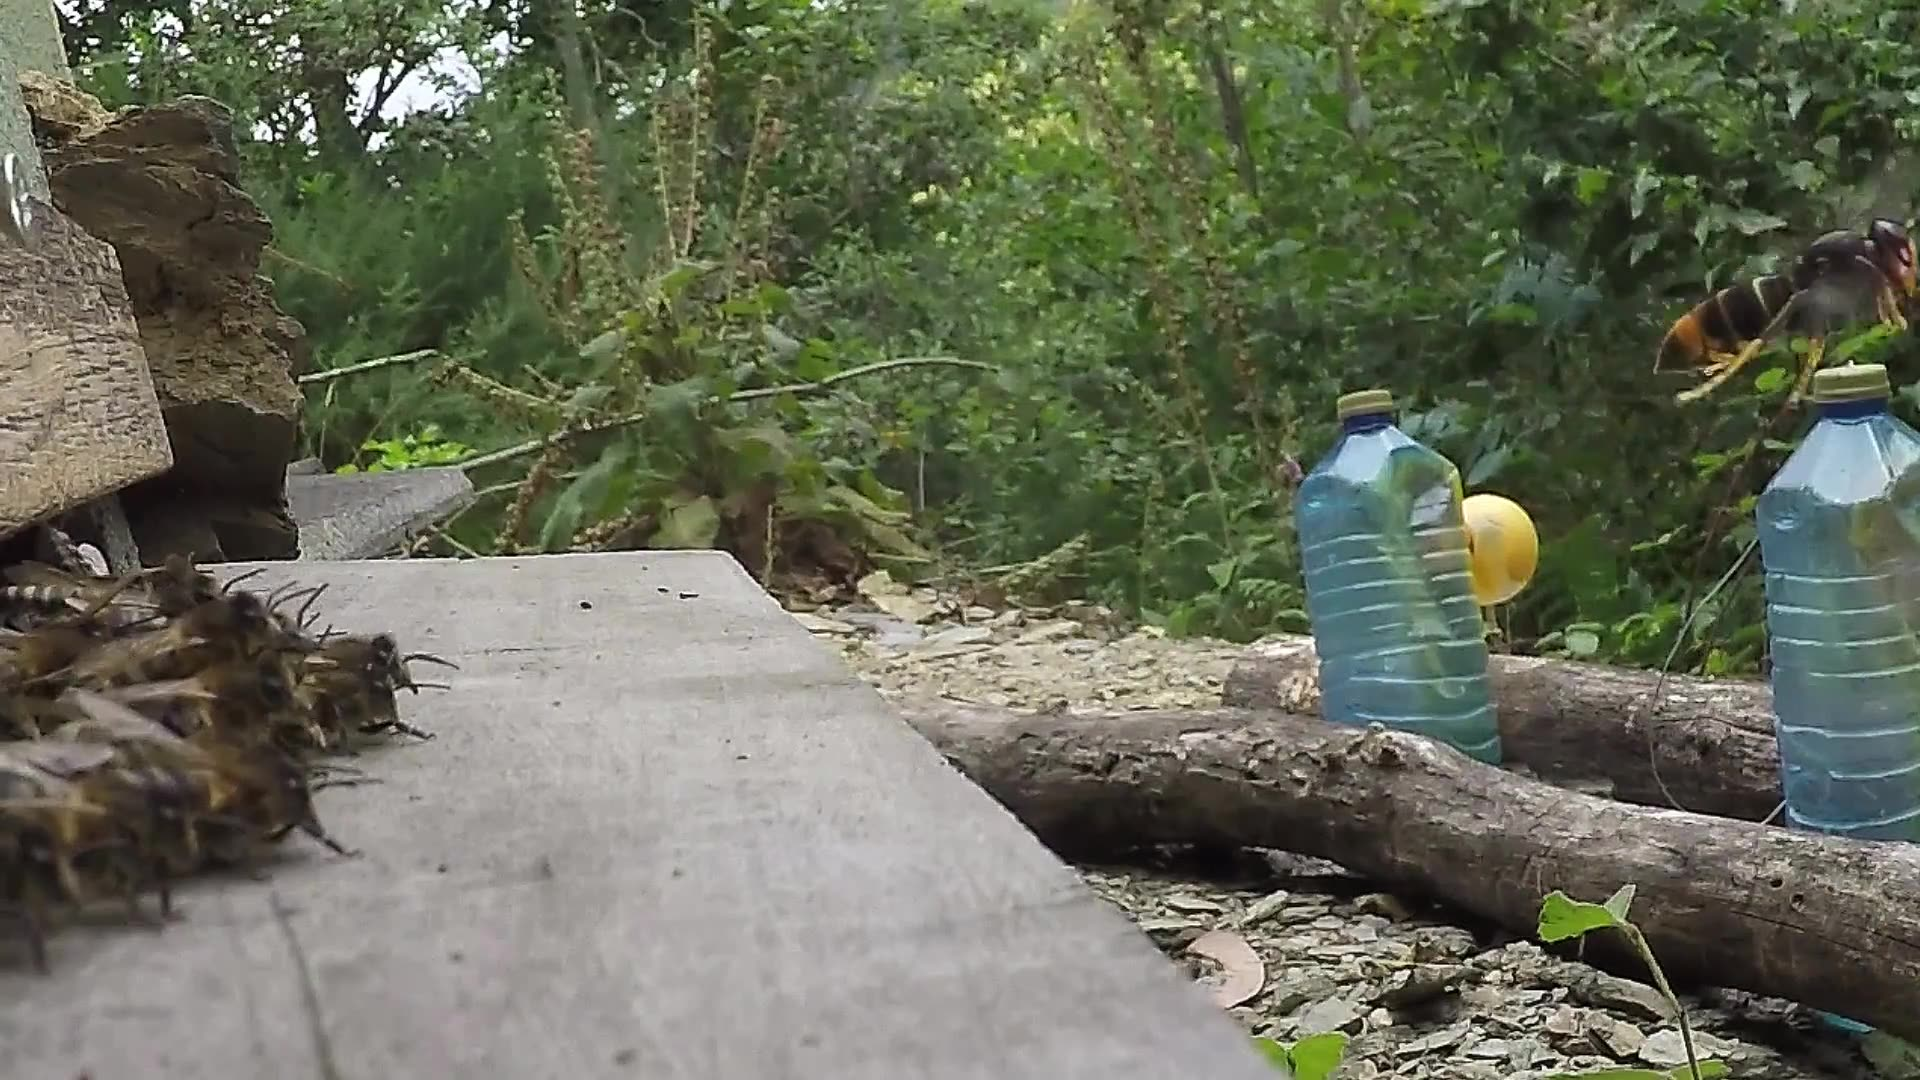bee: (1, 545, 434, 947)
hornet: (1650, 204, 1920, 392)
